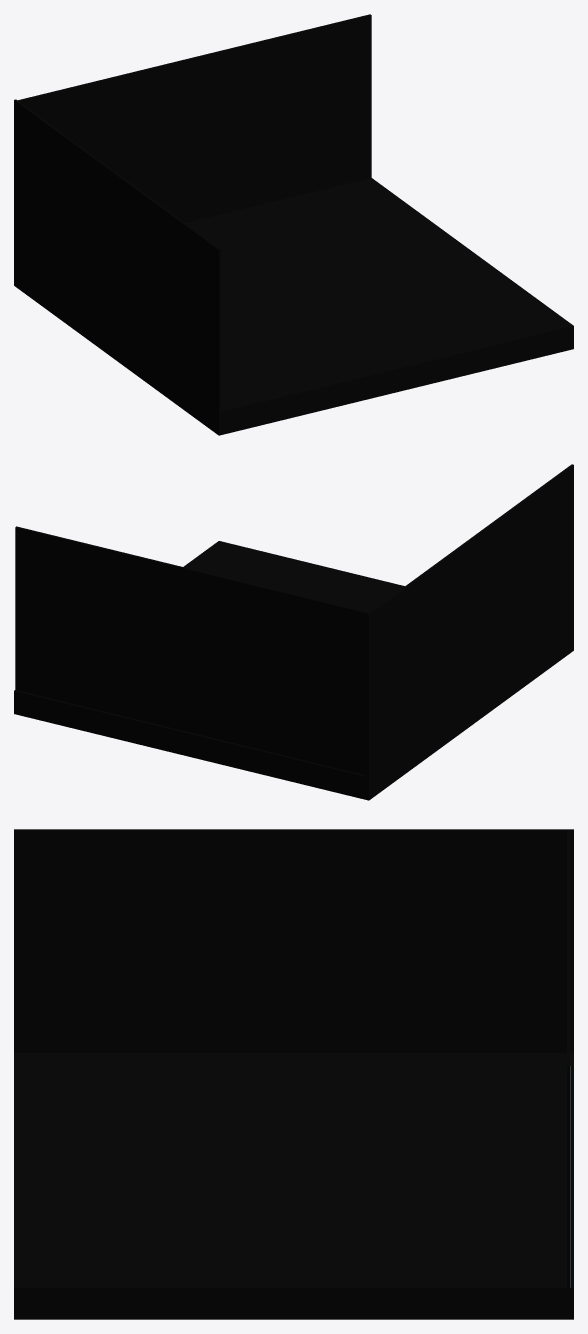
File: pale_vine_d_side_1.obj
3 renders of one model, top to bottom at view 1: azimuth 30°, elevation 25°; view 2: azimuth 150°, elevation 25°; view 3: azimuth 270°, elevation 25°, orthographic. The views are drawn at different scales.
Parts seen in each view (by area): view 1: cube; view 2: cube; view 3: cube.
Part boxes in pixels (bbox=[...]): cube: bbox=[14, 14, 573, 435]; cube: bbox=[14, 464, 573, 800]; cube: bbox=[14, 829, 573, 1319].
Size of the model in its own units: 1 by 0.5 by 1.
